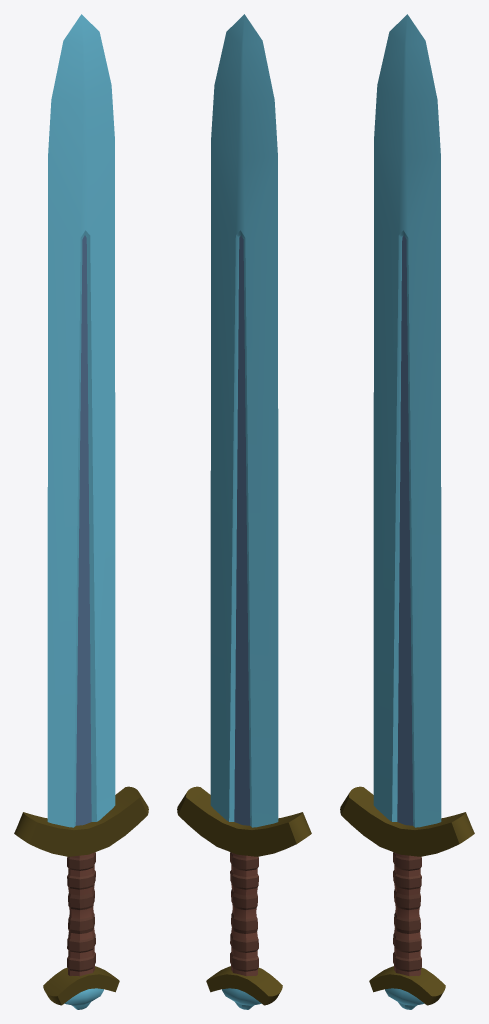
Rendered from SM_Sword18_VikingSword_6FantasyBlue.fbx.
The picture shows the model from 3 angles, left to right: view 1: azimuth 30°, elevation 25°; view 2: azimuth 150°, elevation 25°; view 3: azimuth 330°, elevation 25°; orthographic projection.
Parts seen in each view (by area): view 1: Cube.333, Cylinder.423, Cylinder.424, Cylinder.422, Sphere.130; view 2: Cube.333, Cylinder.423, Cylinder.424, Cylinder.422, Sphere.130; view 3: Cube.333, Cylinder.423, Cylinder.424, Cylinder.422, Sphere.130.
Boxes of the visible parts, x1=… form: Cube.333: x1=47, y1=14, x2=115, y2=827; Cylinder.423: x1=14, y1=786, x2=148, y2=856; Cylinder.424: x1=67, y1=852, x2=95, y2=976; Cylinder.422: x1=43, y1=966, x2=119, y2=1005; Sphere.130: x1=64, y1=988, x2=103, y2=1009; Cube.333: x1=210, y1=14, x2=278, y2=827; Cylinder.423: x1=177, y1=786, x2=311, y2=856; Cylinder.424: x1=230, y1=852, x2=258, y2=976; Cylinder.422: x1=206, y1=966, x2=282, y2=1005; Sphere.130: x1=222, y1=988, x2=261, y2=1009; Cube.333: x1=373, y1=14, x2=441, y2=827; Cylinder.423: x1=340, y1=786, x2=474, y2=856; Cylinder.424: x1=393, y1=852, x2=421, y2=976; Cylinder.422: x1=369, y1=966, x2=445, y2=1005; Sphere.130: x1=385, y1=988, x2=424, y2=1009.
Size of the model in its own units: 0.1129 by 0.8285 by 0.0218.
